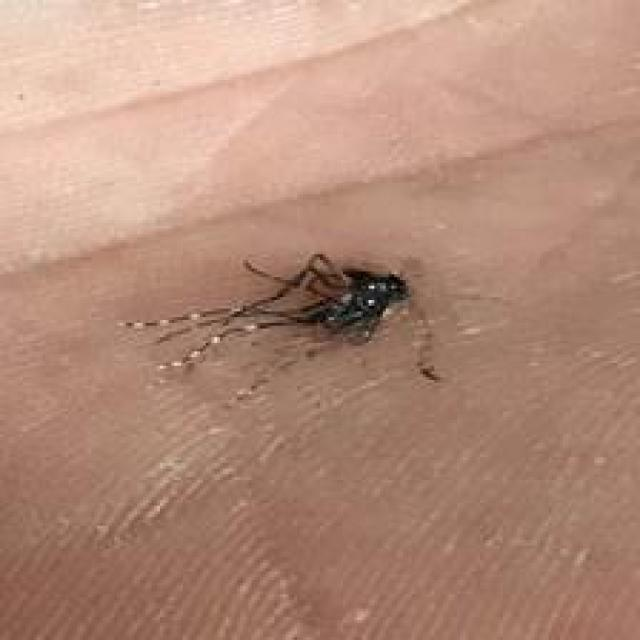Aedes albopictus: (117, 250, 443, 396)
